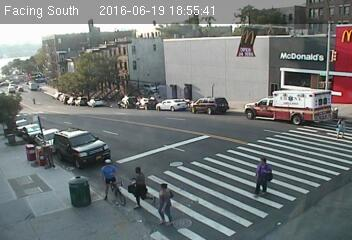neg: (184, 124, 204, 150), (5, 123, 21, 145), (160, 122, 176, 144), (59, 101, 67, 112), (102, 112, 110, 122), (38, 104, 44, 112)
pos: (243, 149, 282, 200), (153, 181, 187, 226), (331, 115, 351, 146)
